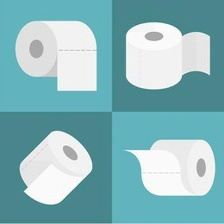tissue: (11, 14, 104, 95), (119, 16, 216, 93), (15, 124, 98, 209), (119, 133, 220, 200)
